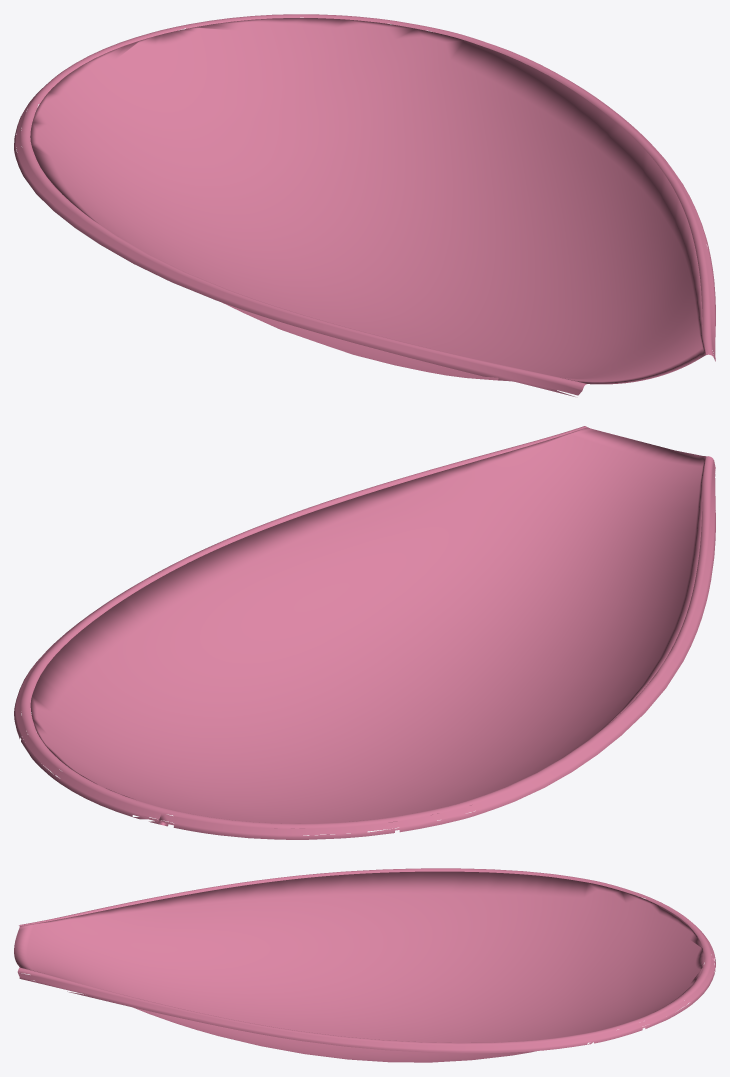
The model's file is teaspoon_mopsig_inside.glb.
3 views of the same model, one above another, from view 1: azimuth 30°, elevation 25°; view 2: azimuth 150°, elevation 25°; view 3: azimuth 270°, elevation 25° (orthographic). The views are drawn at different scales.
Visible parts, largest first — view 1: Mesh_0.001; view 2: Mesh_0.001; view 3: Mesh_0.001.
Part boxes in pixels (bbox=[...]): Mesh_0.001: bbox=[14, 14, 715, 396]; Mesh_0.001: bbox=[14, 426, 715, 839]; Mesh_0.001: bbox=[14, 868, 715, 1062].
Size of the model in its own units: 0.0304 by 0.00694 by 0.0496.
